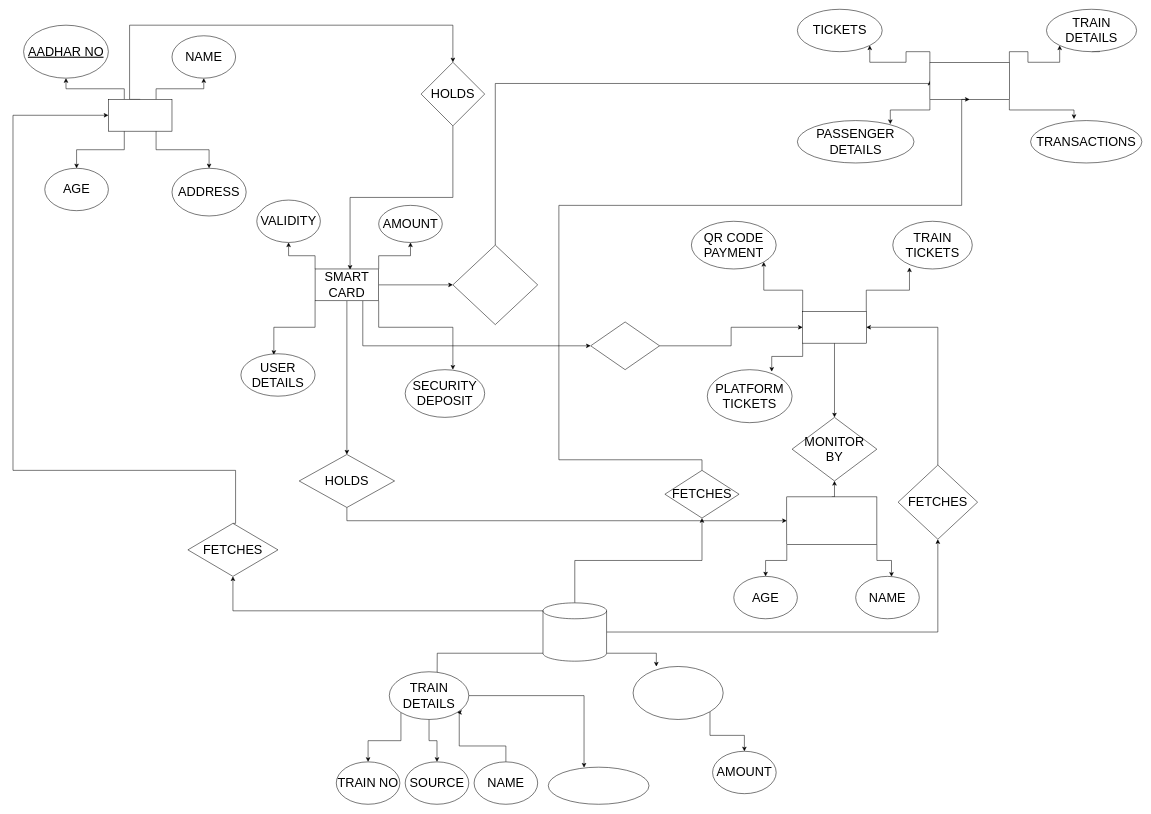
The diagram is 1151 pixels wide and 814 high, and some of its shapes have lost their labels. The centre of each missing label's shape, as x and y in pixels:
"ATVM" belongs at (834,327).
"BOOKING COUNTER" belongs at (969,80).
"DATABASE" belongs at (574,631).
"DESTINATION" belongs at (598,785).
"FACILITATOR" belongs at (831,520).
"ISSUED BY" belongs at (495,285).
"TICKET DETAILS" belongs at (678,692).
"USED ON" belongs at (625,345).
"USERS" belongs at (140,115).
